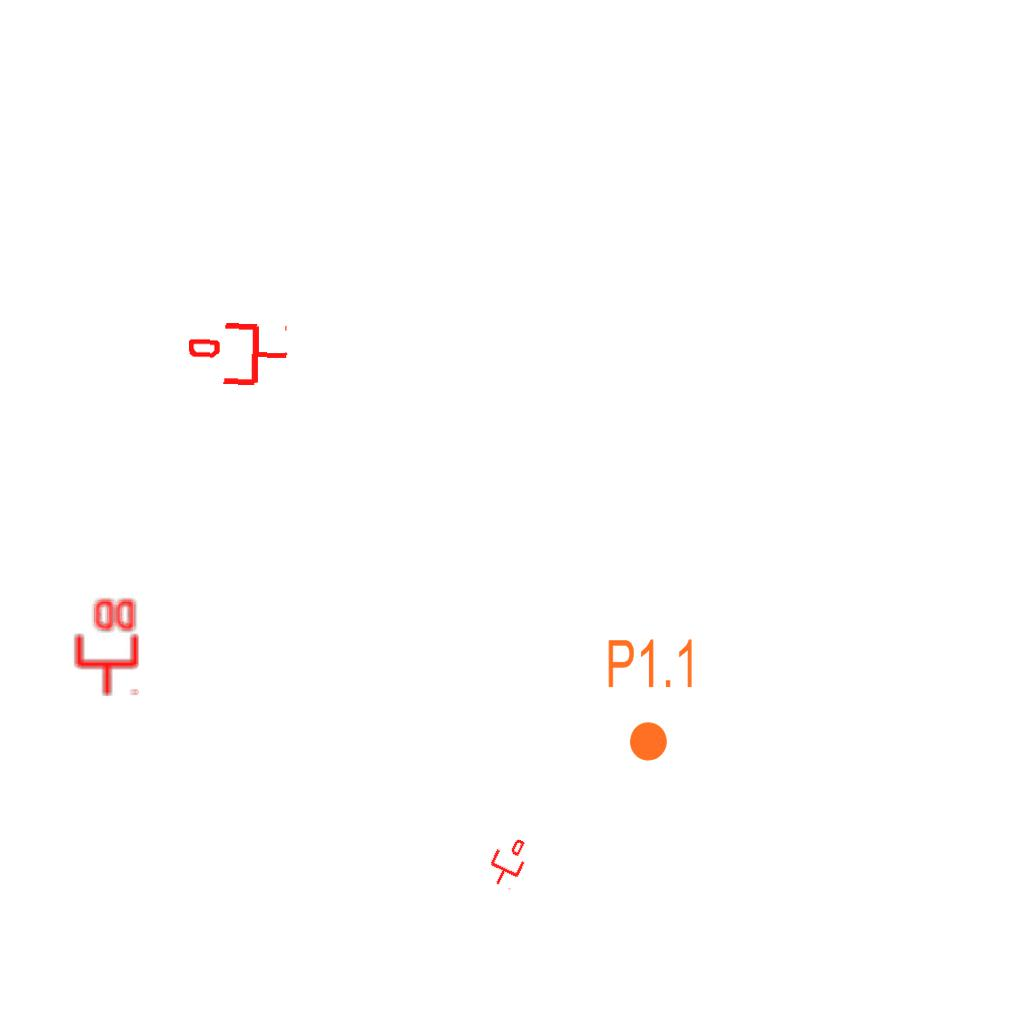Datenanschluss_einfach: (187, 317, 290, 391), (481, 832, 535, 892)
Datenanschluss_zweifach: (71, 595, 140, 698)
Downlight_LED_Einbauleuchten_Flur: (605, 636, 698, 764)
